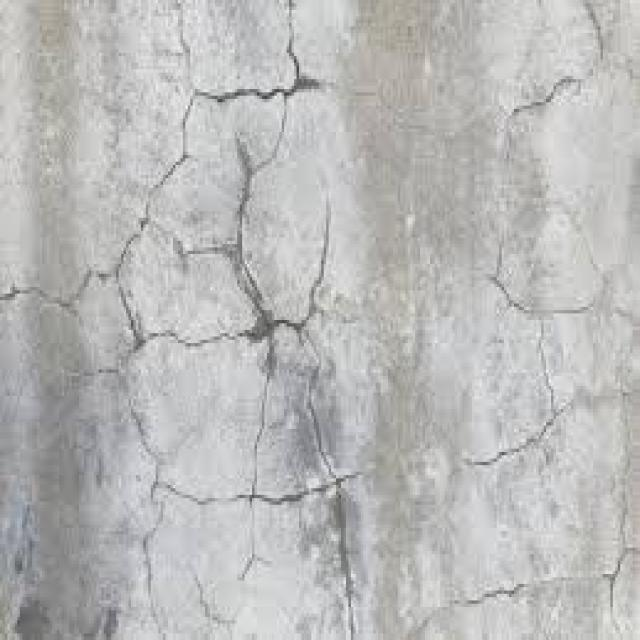crack: (2, 49, 324, 375)
